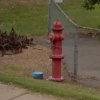Hydrant: (42, 14, 71, 84)
